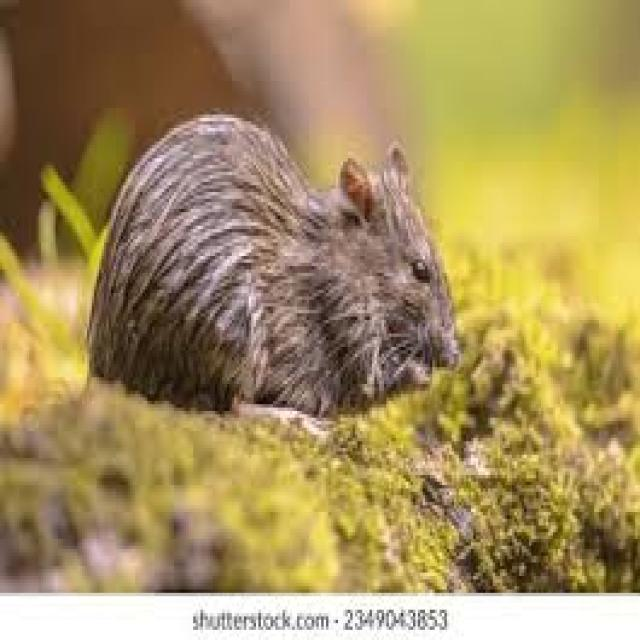Rat: (91, 64, 469, 448)
